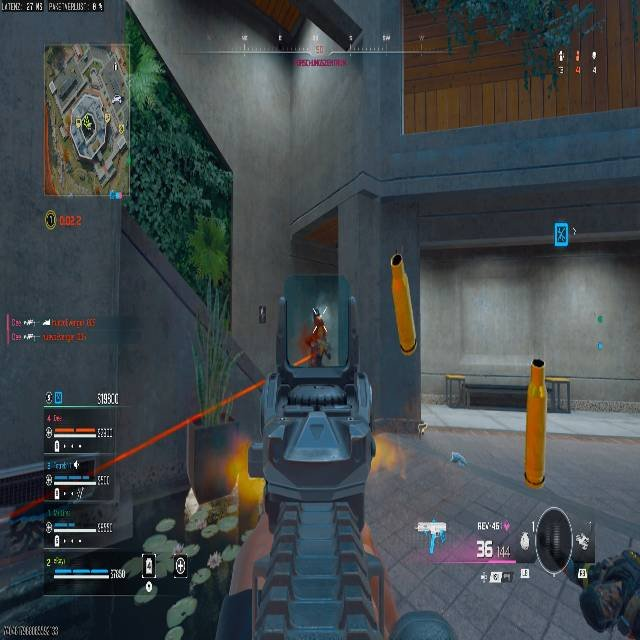head: (579, 576, 634, 633)
player: (309, 314, 327, 361)
